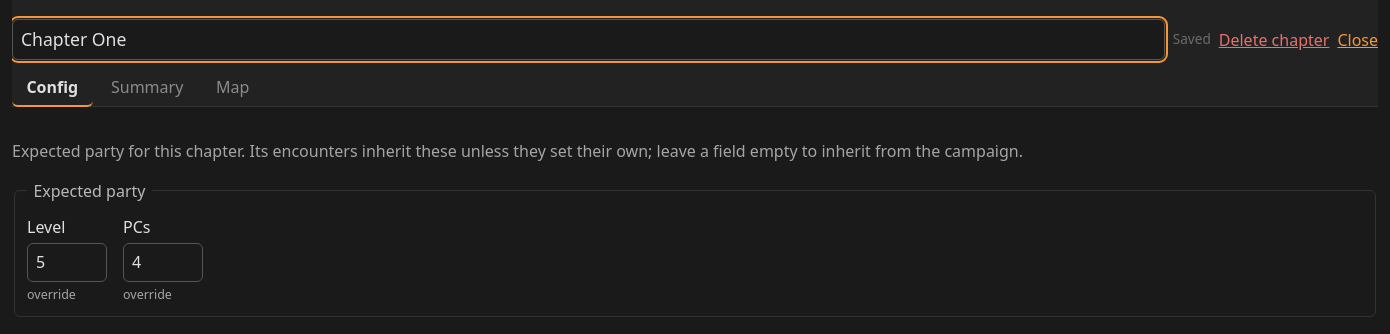
Test: ChapterDetail: switching tabs swaps the panel — Summary→rollup, Map→map, Config hides
This screenshot has width=1390, height=334.
Expected: the element showing "Config Summary Map" is shown, [12,68,1378,107]
Click the tab "Summary".
click(147, 88)  # box [97,68,198,107]
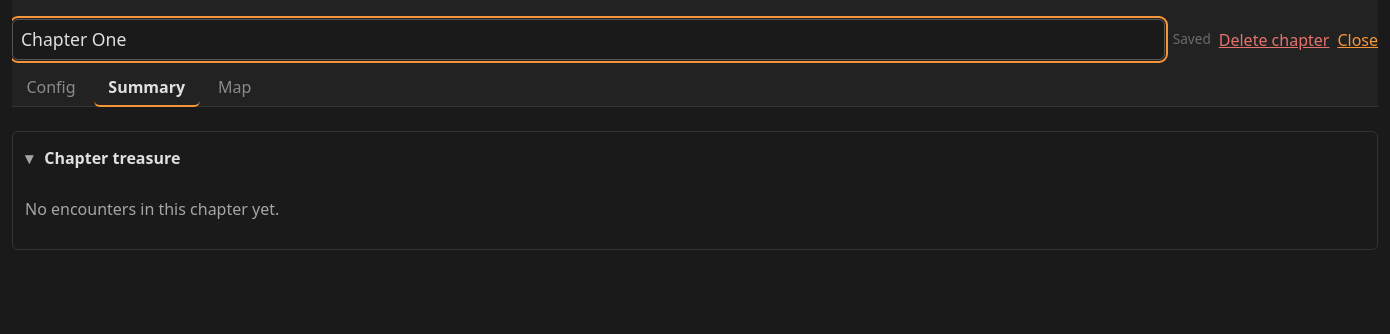
Expected: the element with test id "treasure-rollup" is shown, [12,131,1378,250]
Expected: the field labelled "party Level" is gone
Click the tab "Map".
click(235, 88)  # box [204,68,266,107]
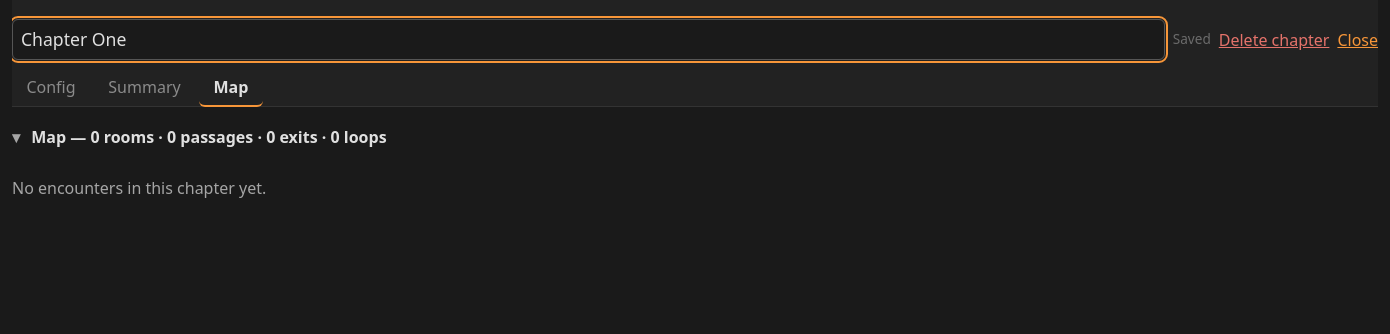
Expected: the element with test id "chapter-map" is shown, [12,123,1378,216]
Expected: the element with test id "treasure-rollup" is gone
